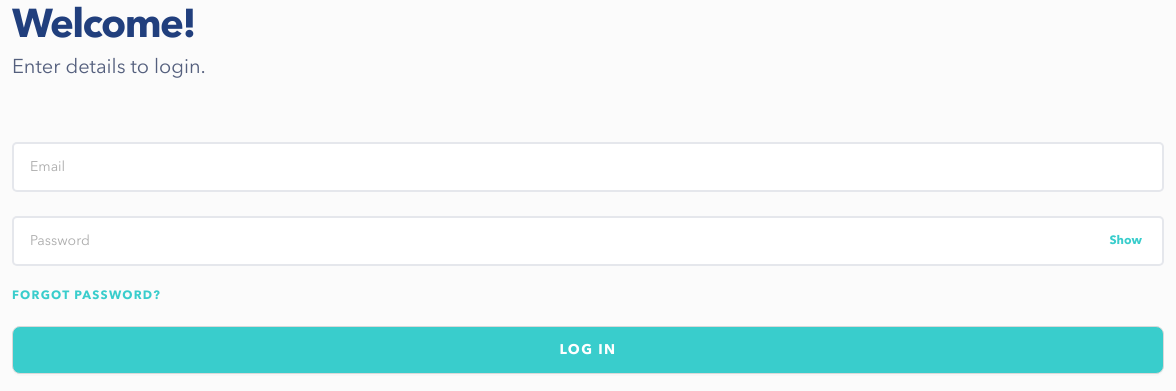
Scenario: Login Form › should toggle input type between `text` and `password` when show/hide button is clicked
Check: the password field with placeholder "Password" is shown, box [12,216,1164,266]
Note: Click show button
Click the button "Show" at [1126, 241], box [1104,234,1148,248]
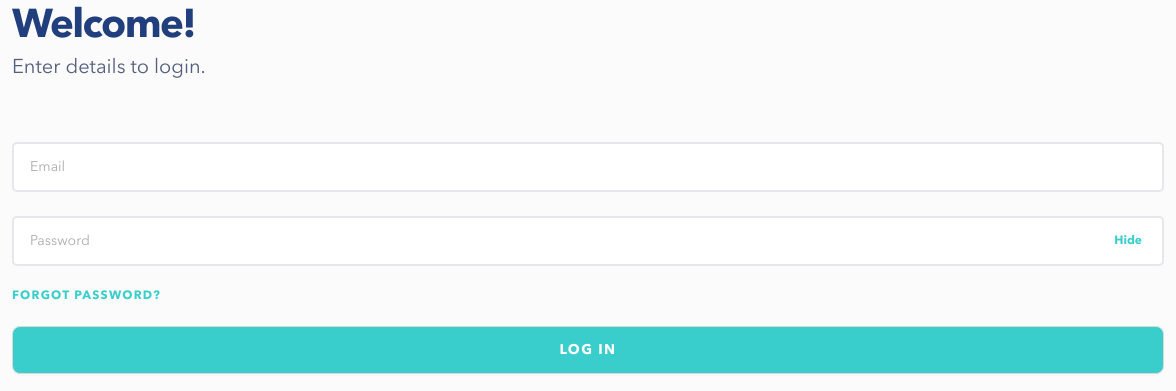
Check: the button "Show" is gone
Check: the button "Hide" is shown
Note: click hide button
Click the button "Hide" at [1128, 241], box [1108,234,1148,248]
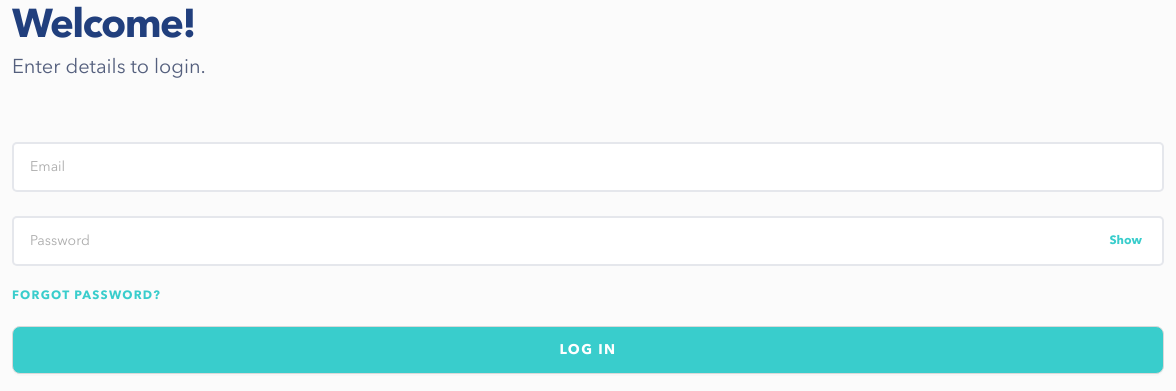
Check: the button "Hide" is gone
